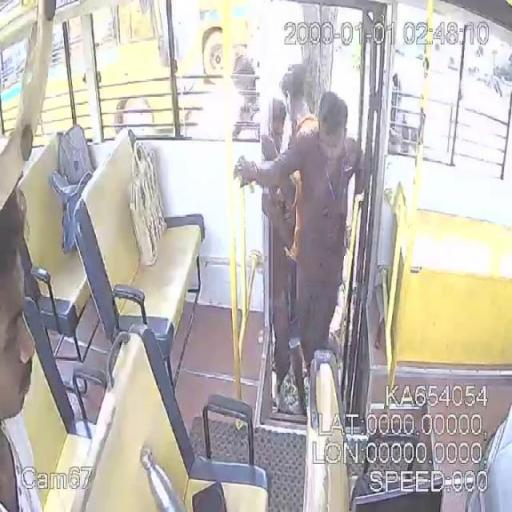persona: (234, 78, 366, 411), (0, 193, 69, 512)
